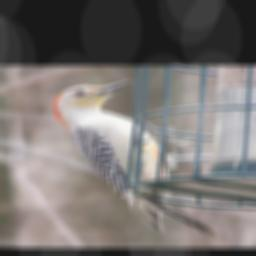Woodpecker: (48, 77, 217, 238)
